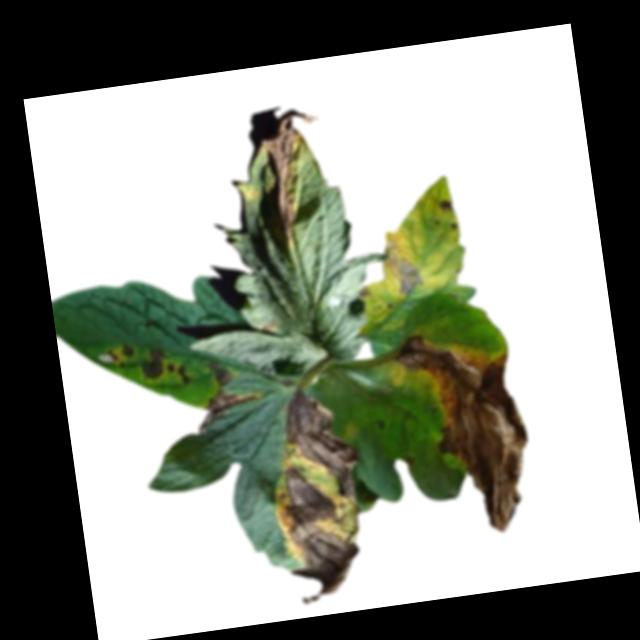Early_blight: (391, 324, 541, 544), (258, 382, 376, 611), (254, 106, 335, 246), (190, 355, 263, 434), (380, 239, 425, 300), (140, 346, 168, 383), (105, 342, 136, 368), (166, 359, 189, 388), (434, 197, 455, 218)
